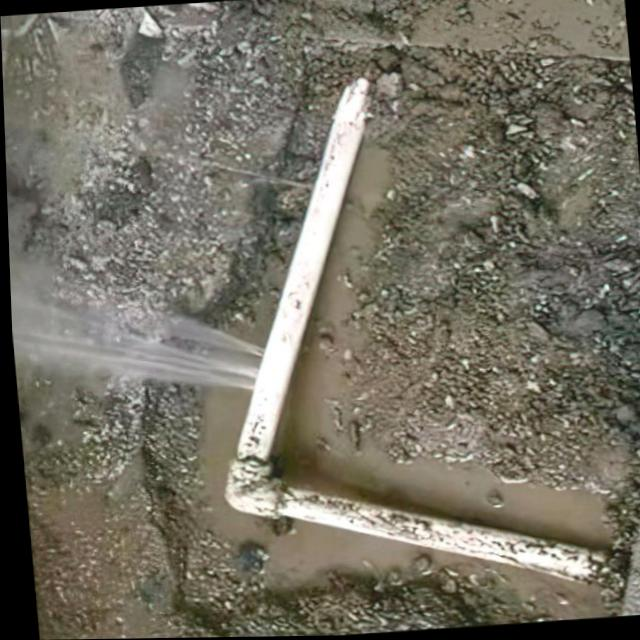leak: (20, 258, 268, 402)
